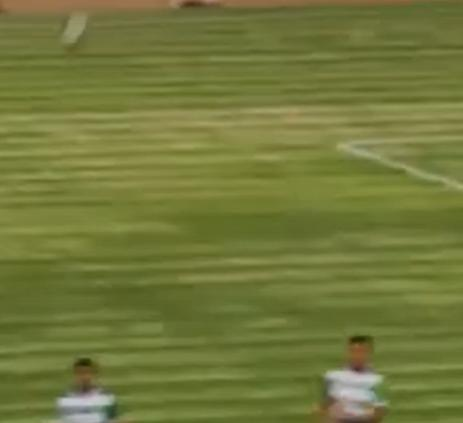ball: (45, 10, 98, 56)
